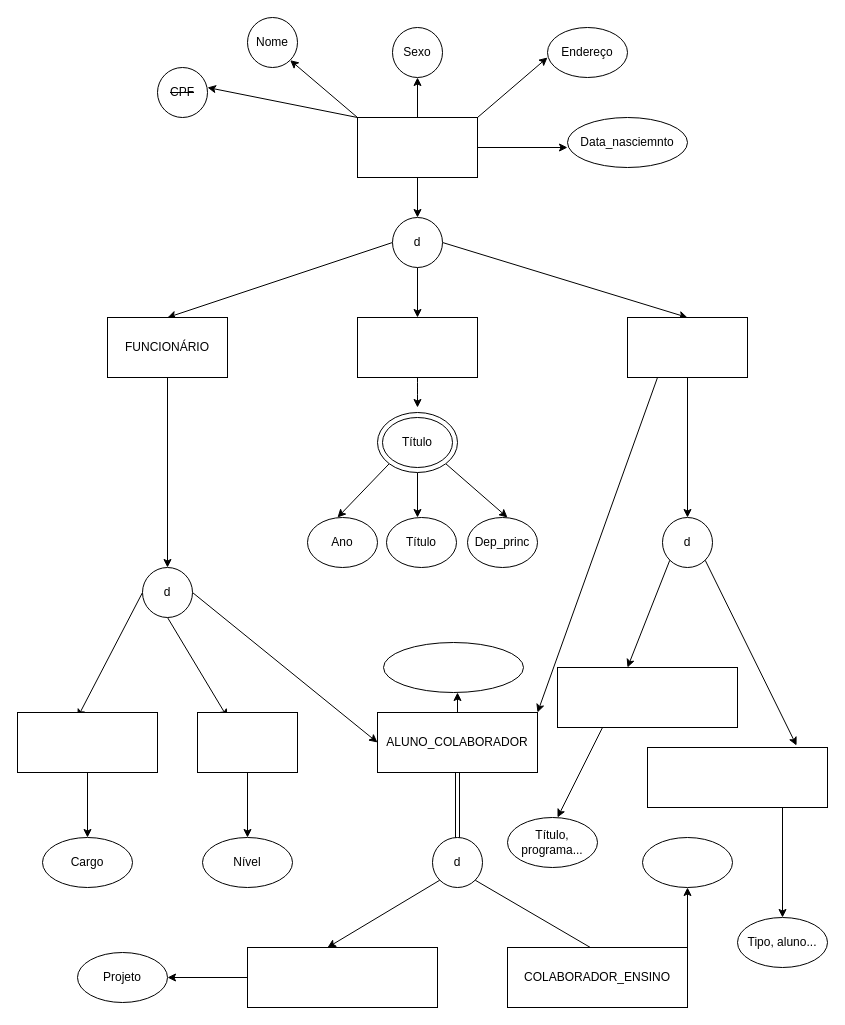
The diagram is 845 pixels wide and 1025 high, and some of its shapes have lost their labels. Here are the shapes that lost their labels. From the top down, the centre of each, then its label:
At pixel 417 147: "PESSOA".
At pixel 417 347: "EX-ALUNO".
At pixel 687 347: "ALUNO".
At pixel 453 667: "Porcentagem_tempo".
At pixel 647 697: "ALUNO_PÓS_GRADUAÇÃO".
At pixel 87 742: "ADMINISTRATIVO".
At pixel 247 742: "DOCENTE".
At pixel 737 777: "ALUNO_GRADUAÇÃO".
At pixel 687 862: "Discipiina".
At pixel 342 977: "COLABORADOR_PESQUISA".
